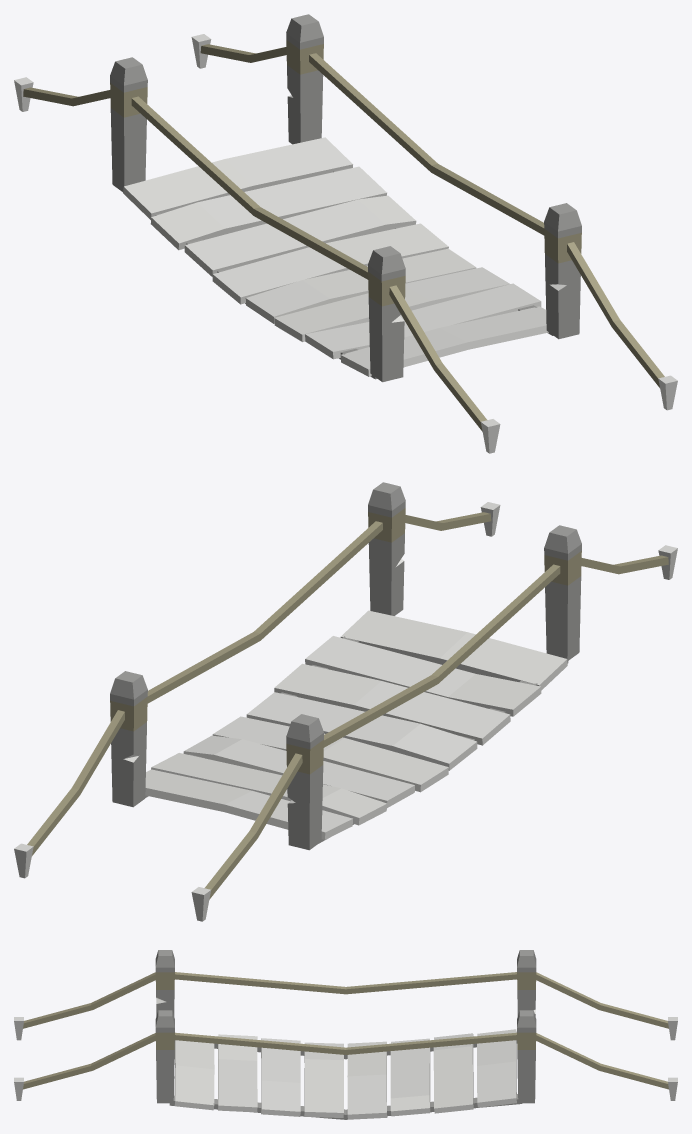
The model's file is Bridge_4_White.fbx.
3 views of the same model, one above another, from view 1: azimuth 30°, elevation 25°; view 2: azimuth 150°, elevation 25°; view 3: azimuth 270°, elevation 25° (orthographic). The views are drawn at different scales.
Visible parts, largest first — view 1: Bridge_4_White_Part_1, Bridge_4_White_Part_3, Bridge_4_White_Part_2; view 2: Bridge_4_White_Part_1, Bridge_4_White_Part_3, Bridge_4_White_Part_2; view 3: Bridge_4_White_Part_1, Bridge_4_White_Part_3, Bridge_4_White_Part_2.
Boxes of the visible parts, x1=… form: Bridge_4_White_Part_1: x1=14, y1=34, x2=677, y2=453; Bridge_4_White_Part_3: x1=23, y1=40, x2=664, y2=431; Bridge_4_White_Part_2: x1=110, y1=14, x2=581, y2=382; Bridge_4_White_Part_1: x1=14, y1=502, x2=677, y2=921; Bridge_4_White_Part_3: x1=27, y1=508, x2=668, y2=899; Bridge_4_White_Part_2: x1=110, y1=482, x2=581, y2=850; Bridge_4_White_Part_1: x1=14, y1=997, x2=677, y2=1119; Bridge_4_White_Part_3: x1=23, y1=972, x2=668, y2=1089; Bridge_4_White_Part_2: x1=155, y1=950, x2=536, y2=1119.
Bounding box in the file's own units: 300 × 204 × 1183.
